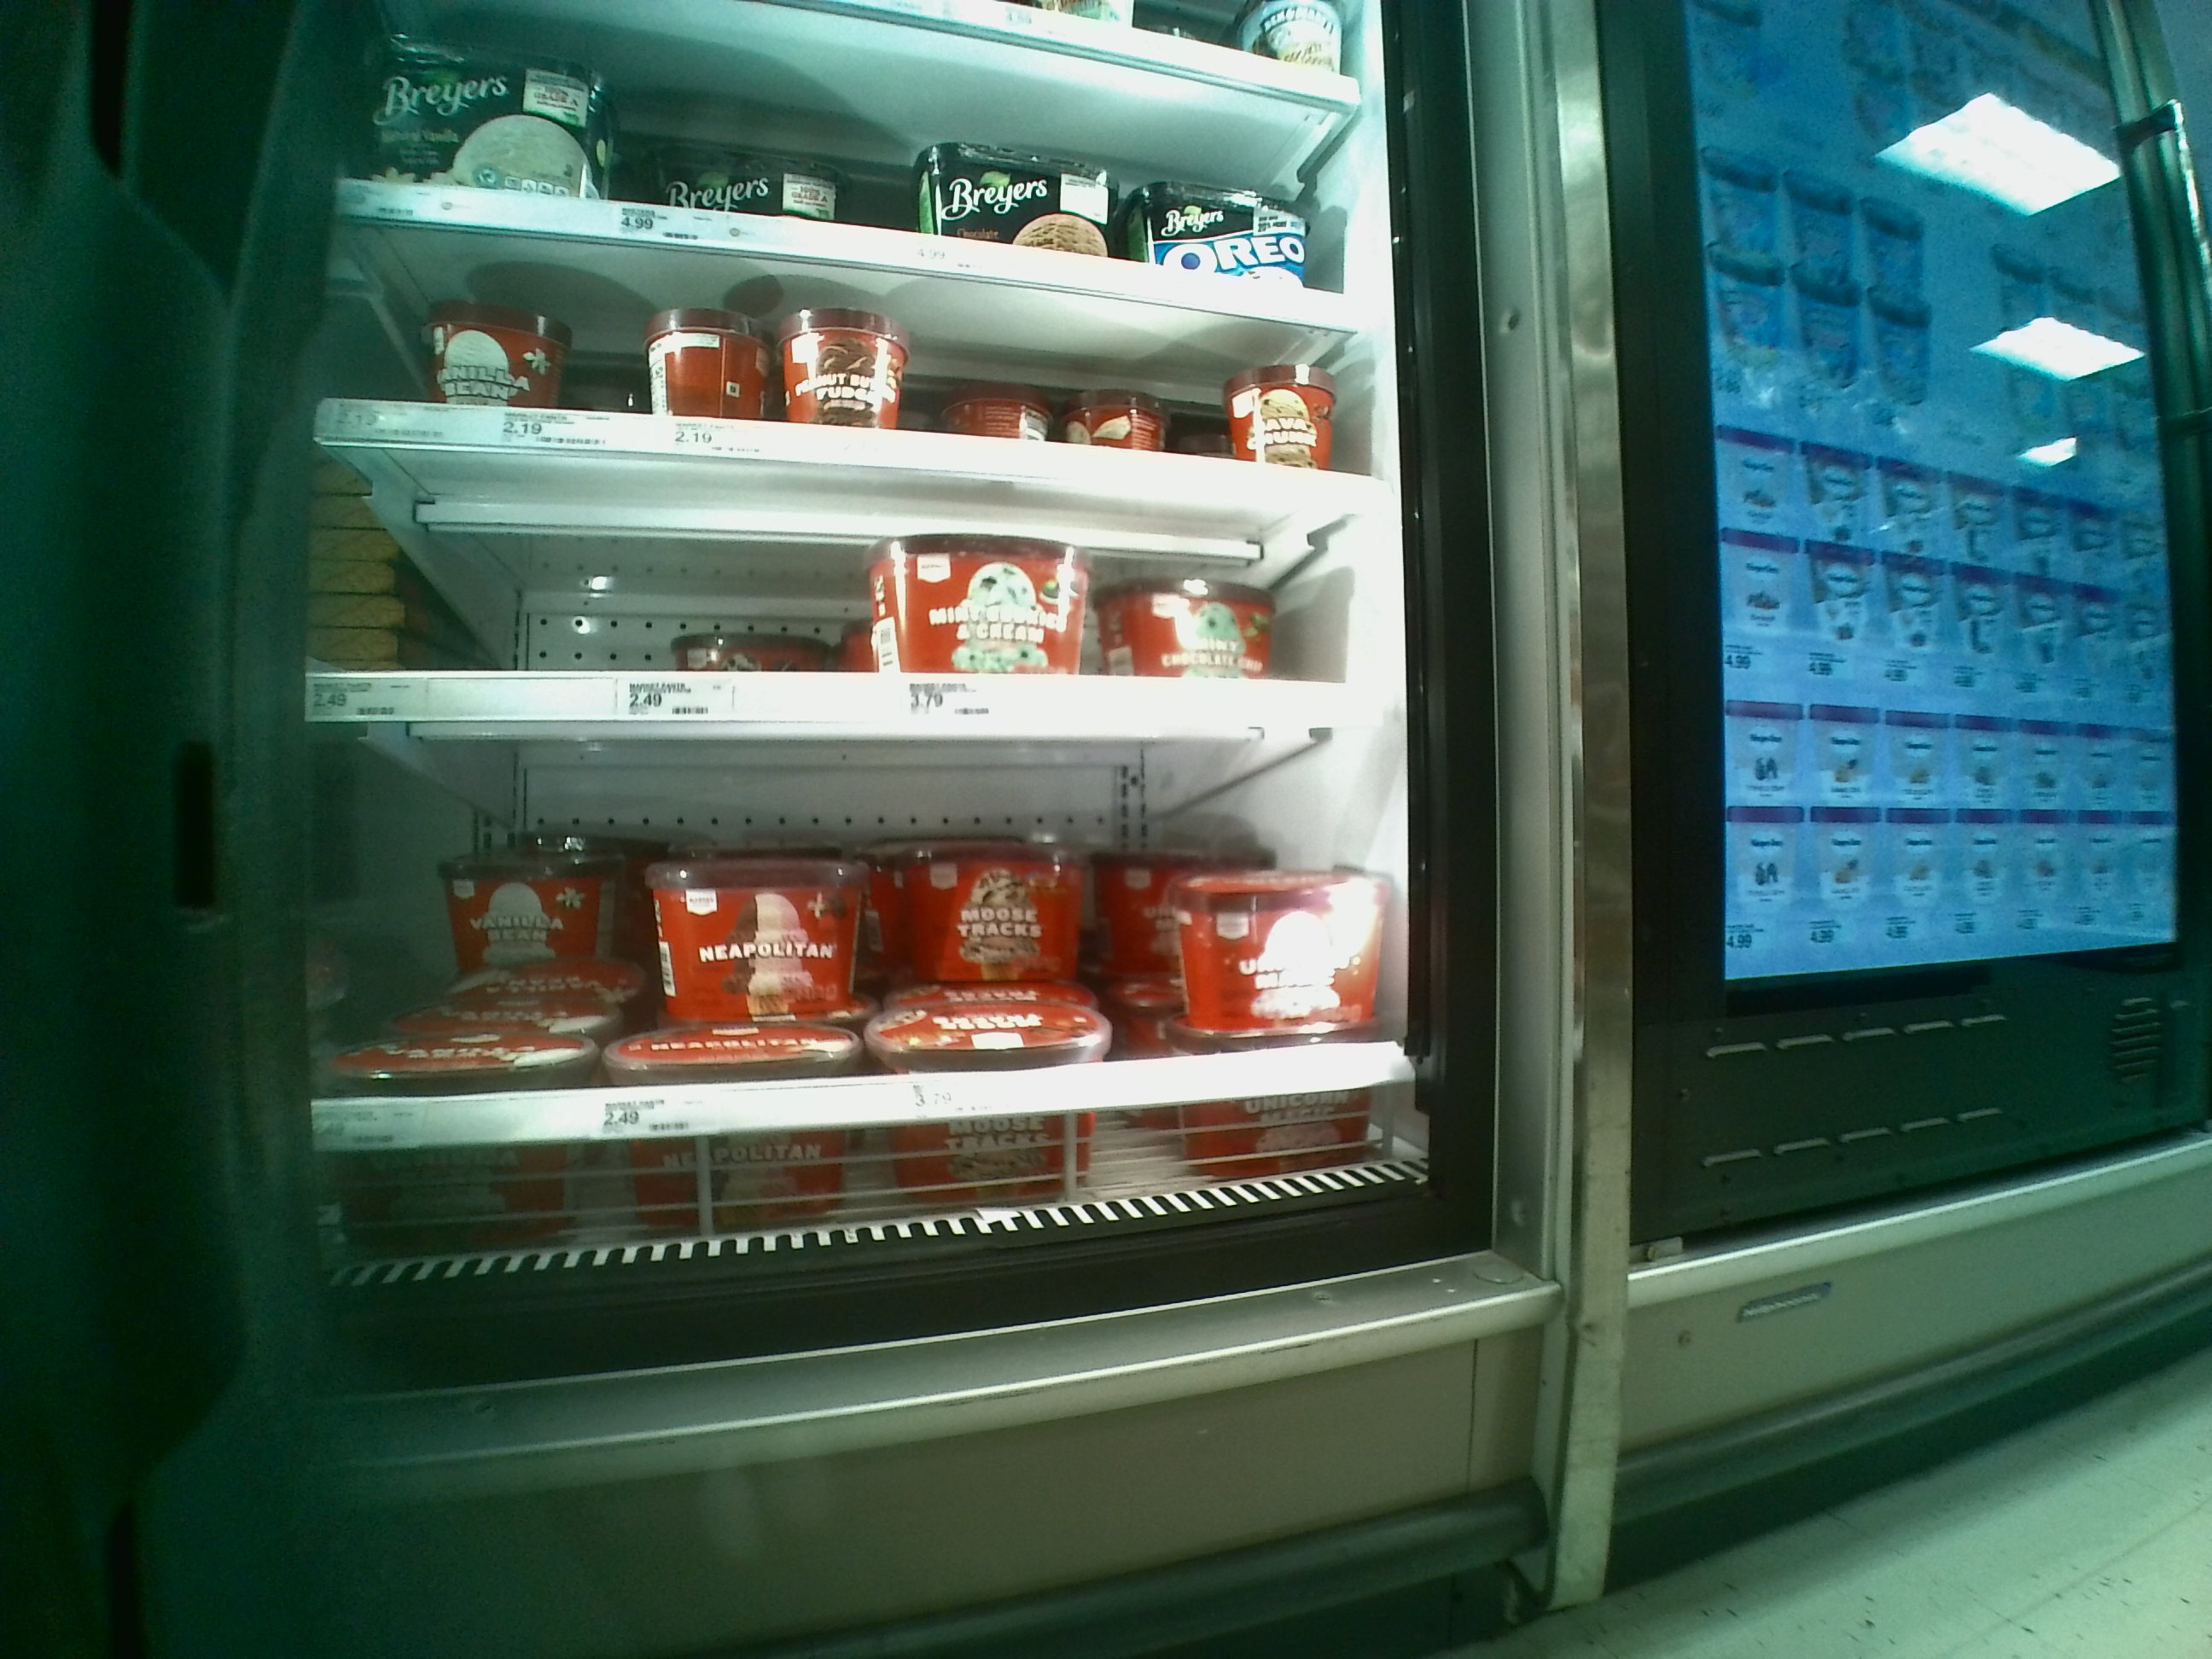shelf: (308, 718, 1411, 1148), (331, 211, 1395, 516), (319, 432, 1372, 721)
